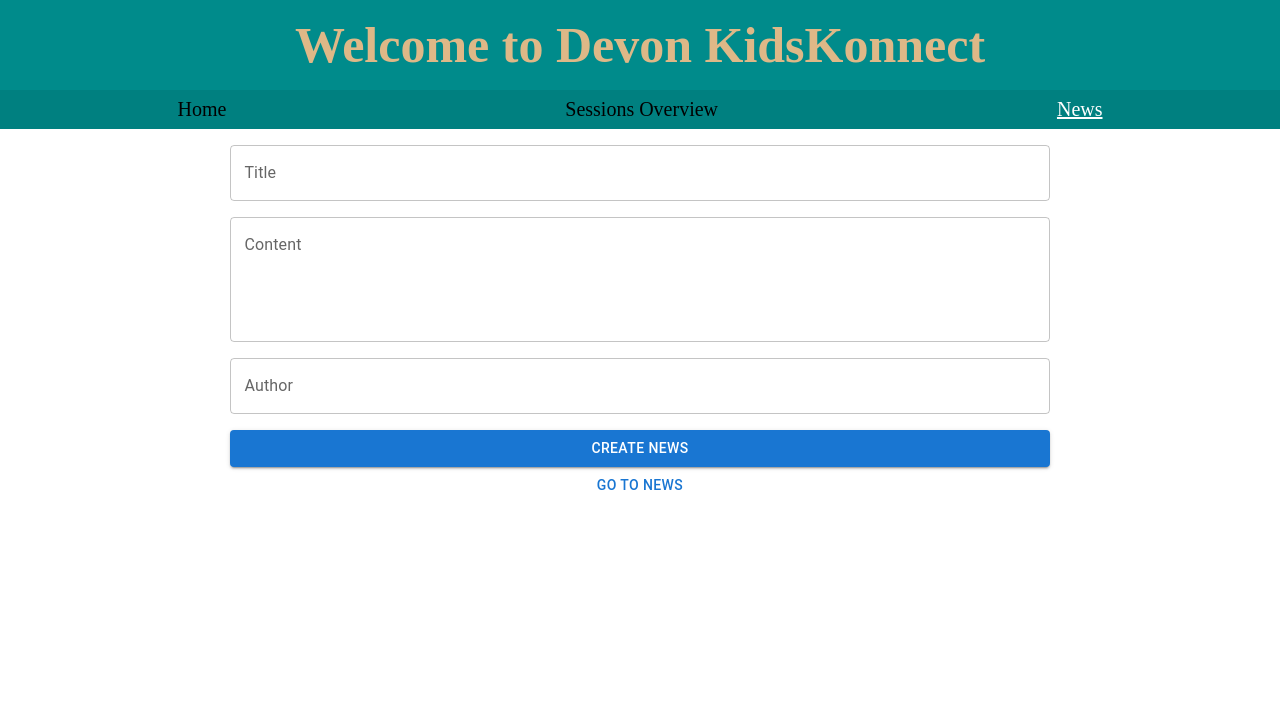
Test: Landing NewsForm › Validate all news fields
This screenshot has width=1280, height=720.
Click the submit button: (640, 449) x1=230 y1=430 x2=1049 y2=467
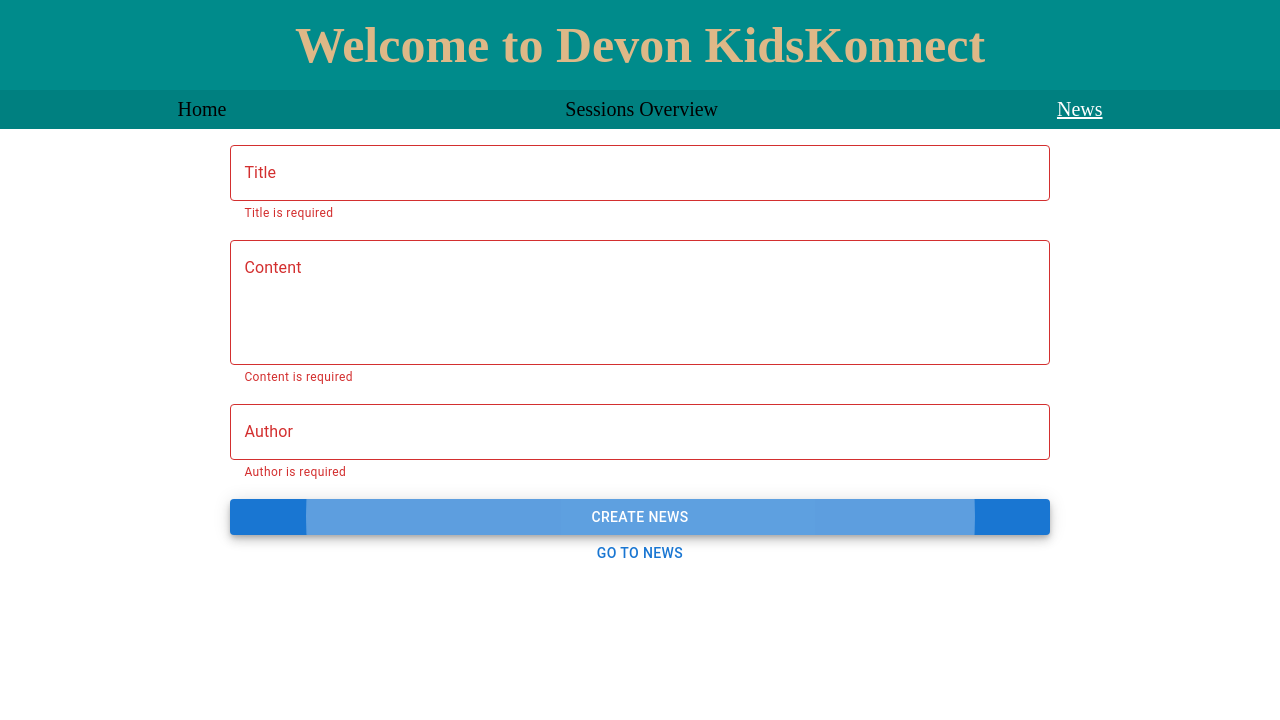
Check: the text "Title is required" is shown, box x1=244 y1=206 x2=333 y2=220
Check: the text "Content is required" is shown, box x1=244 y1=370 x2=353 y2=384
Check: the text "Author is required" is shown, box x1=244 y1=465 x2=346 y2=479
